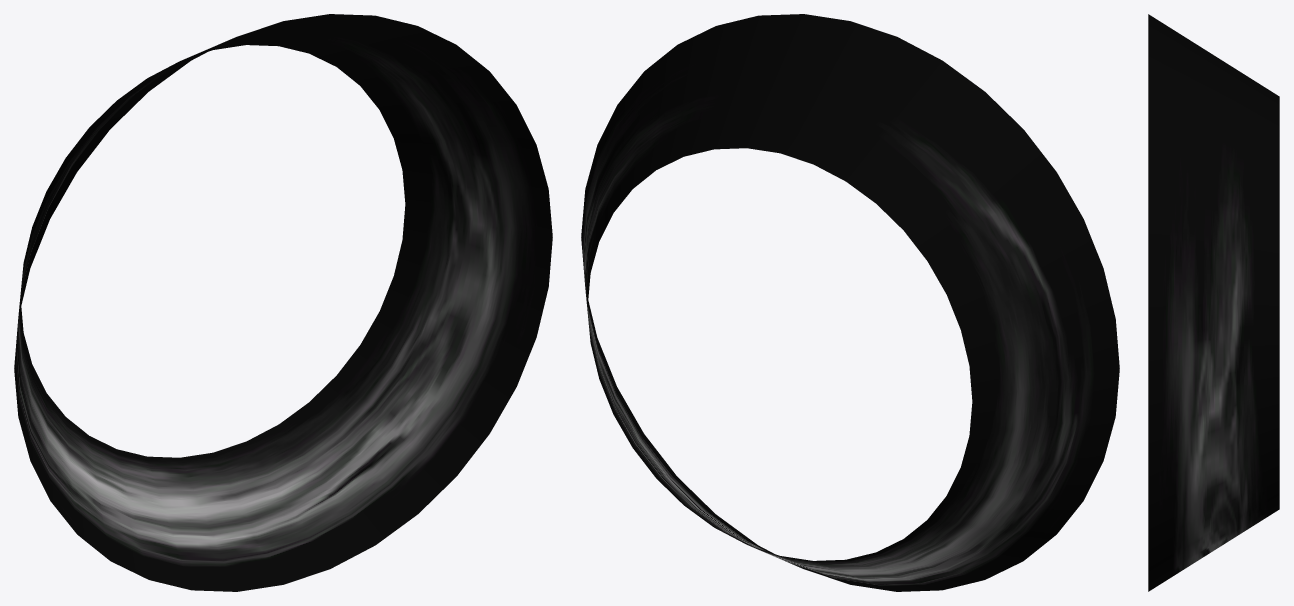
The model's file is eff_skill09_xuanfeng.FBX.
3 renders of one model, left to right at view 1: azimuth 30°, elevation 25°; view 2: azimuth 150°, elevation 25°; view 3: azimuth 270°, elevation 25°, orthographic. The views are drawn at different scales.
Parts seen in each view (by area): view 1: EFF_Skill09_xuanfeng; view 2: EFF_Skill09_xuanfeng; view 3: EFF_Skill09_xuanfeng.
Part boxes in pixels (bbox=[...]): EFF_Skill09_xuanfeng: bbox=[14, 14, 552, 591]; EFF_Skill09_xuanfeng: bbox=[581, 14, 1119, 591]; EFF_Skill09_xuanfeng: bbox=[1148, 14, 1279, 591].
Bounding box in the file's own units: 298 × 298 × 67.44.
